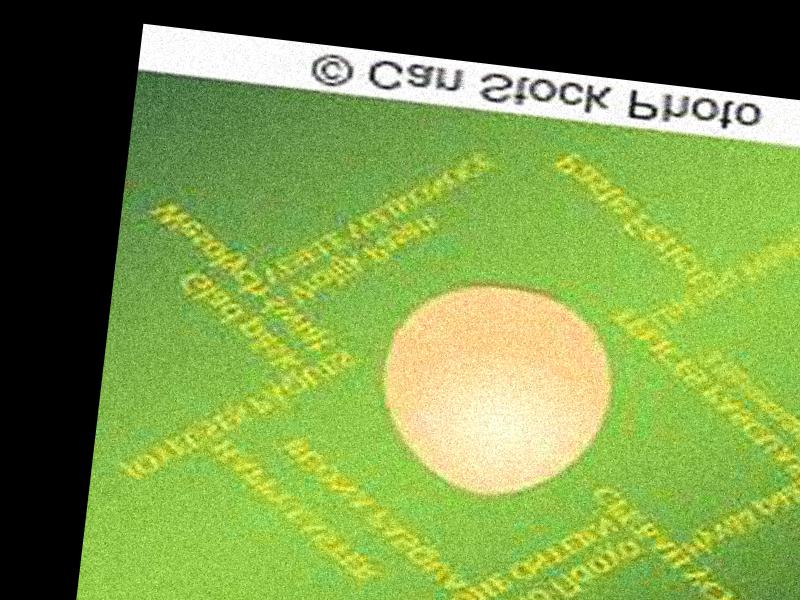Eggs: (372, 275, 617, 506)
